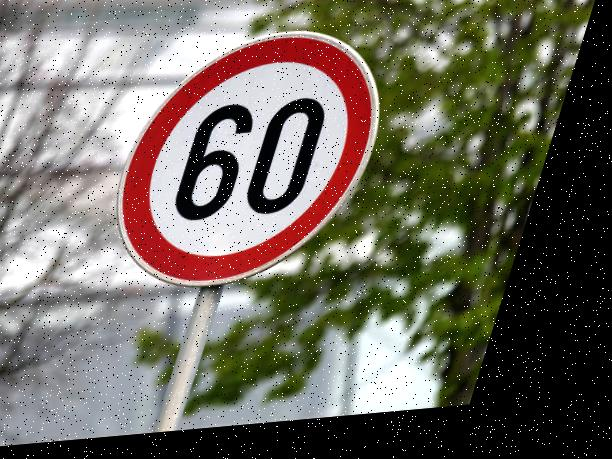Speed Limit -60-: (100, 25, 419, 302)
